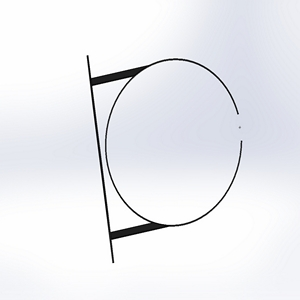circle: (84, 53, 246, 264)
